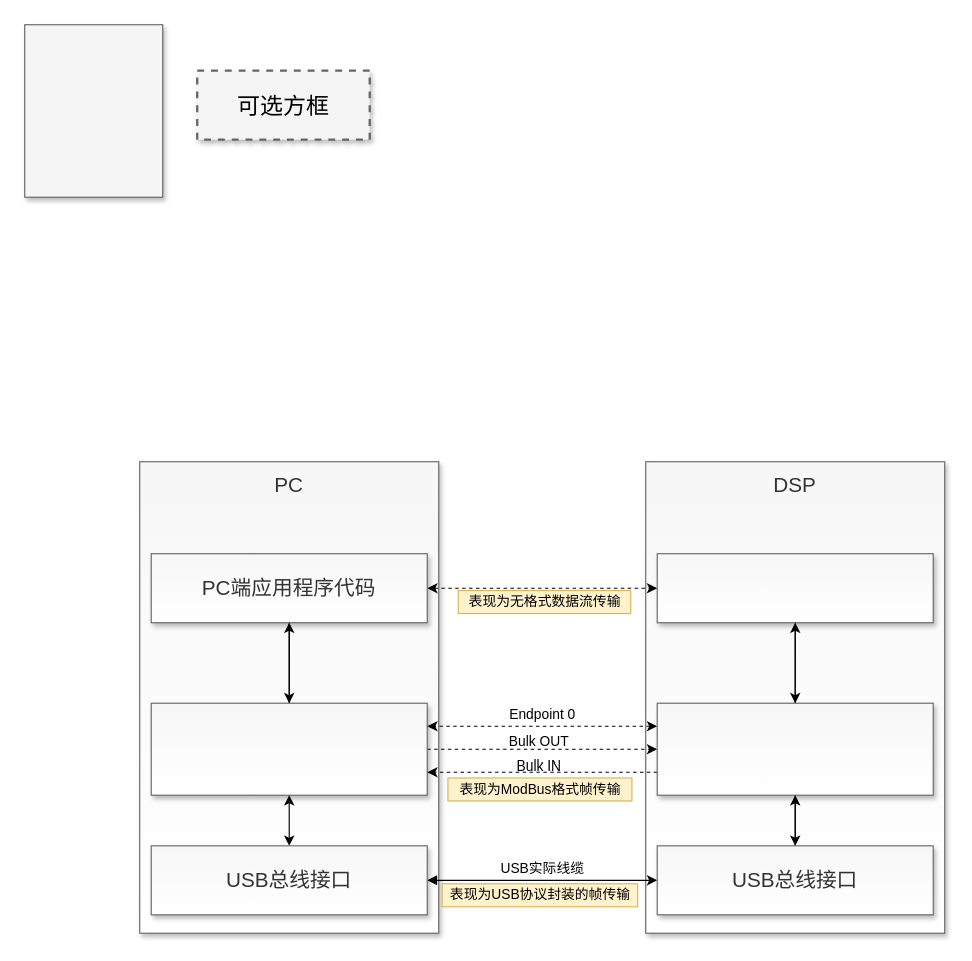
Image size: 972x961. Some labels were removed from this diagram. The shapes that lost their labels are listed below. From the top down, each one's centre as x and y in pixels, then its label:
At [94,112]: "实际方框".
At [795,589]: "DSP端应用程序代码".
At [289,750]: "tiusbdll.dll".
At [795,750]: "USB Buffer USB Device Class Driver APIs".
